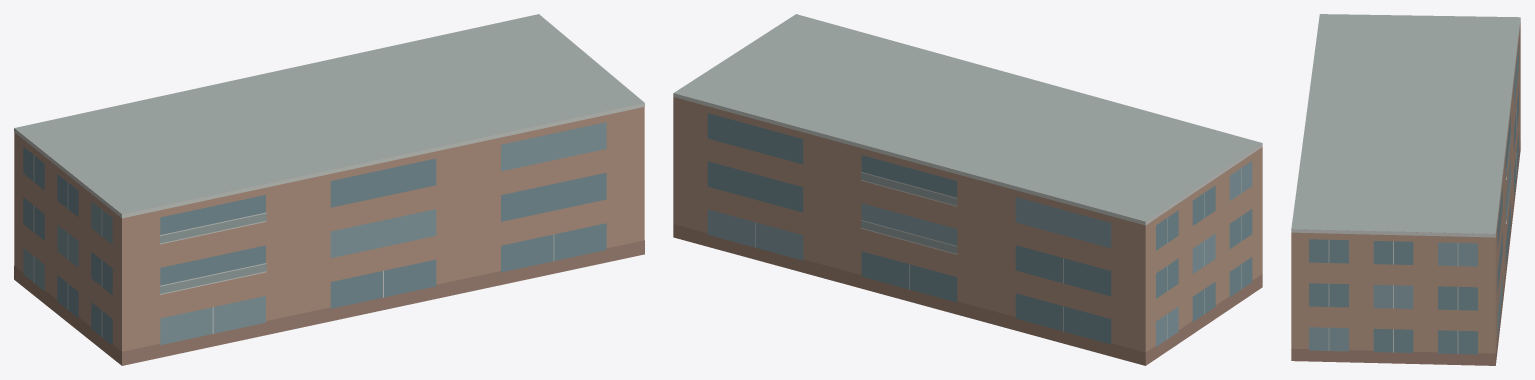
File: survey-upis-32835164.glb
The picture shows the model from 3 angles, left to right: view 1: azimuth 30°, elevation 25°; view 2: azimuth 150°, elevation 25°; view 3: azimuth 270°, elevation 25°; orthographic projection. The views are drawn at different scales.
Visible parts, largest first — view 1: survey-upis-32835164.tmp; view 2: survey-upis-32835164.tmp; view 3: survey-upis-32835164.tmp.
Part boxes in pixels (x1=…): survey-upis-32835164.tmp: x1=14, y1=14, x2=644, y2=365; survey-upis-32835164.tmp: x1=673, y1=14, x2=1262, y2=365; survey-upis-32835164.tmp: x1=1291, y1=14, x2=1520, y2=365.
Size of the model in its own units: 32.73 by 9.15 by 14.43.
